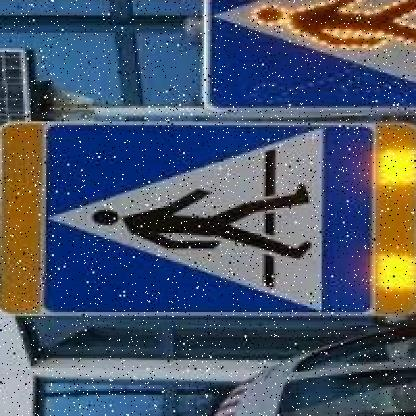Pedestrian Crossing: (42, 119, 383, 323)
